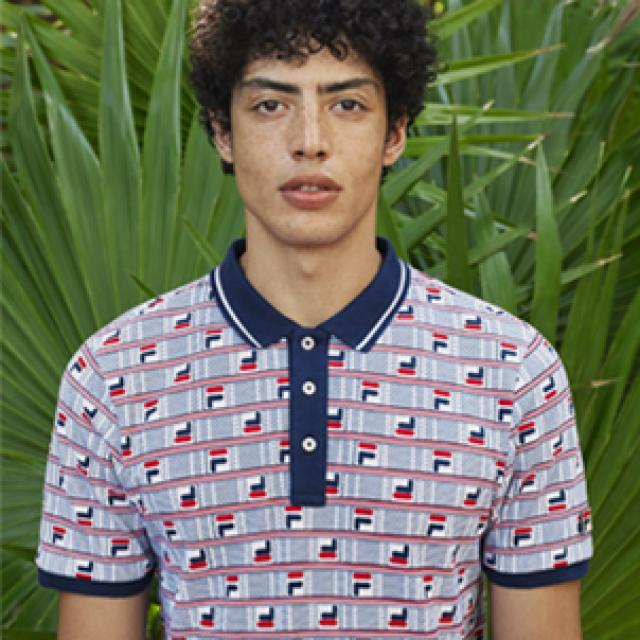mobile_phonerotation: (31, 0, 598, 638)
